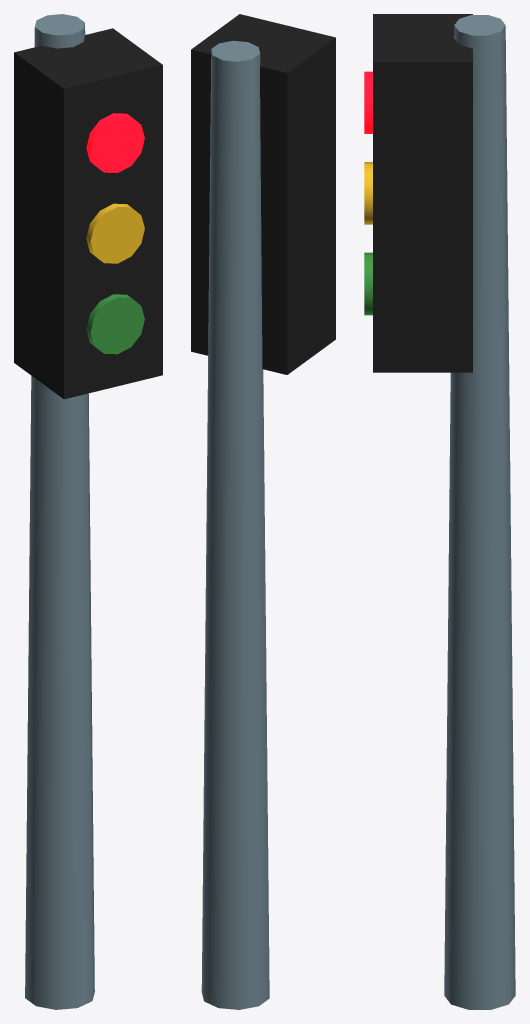
The model's file is traffic_light.glb.
3 renders of one model, left to right at view 1: azimuth 30°, elevation 25°; view 2: azimuth 150°, elevation 25°; view 3: azimuth 270°, elevation 25°, orthographic. The views are drawn at different scales.
Bounding box in the file's own units: 0.8 × 7.5 × 1.06.
